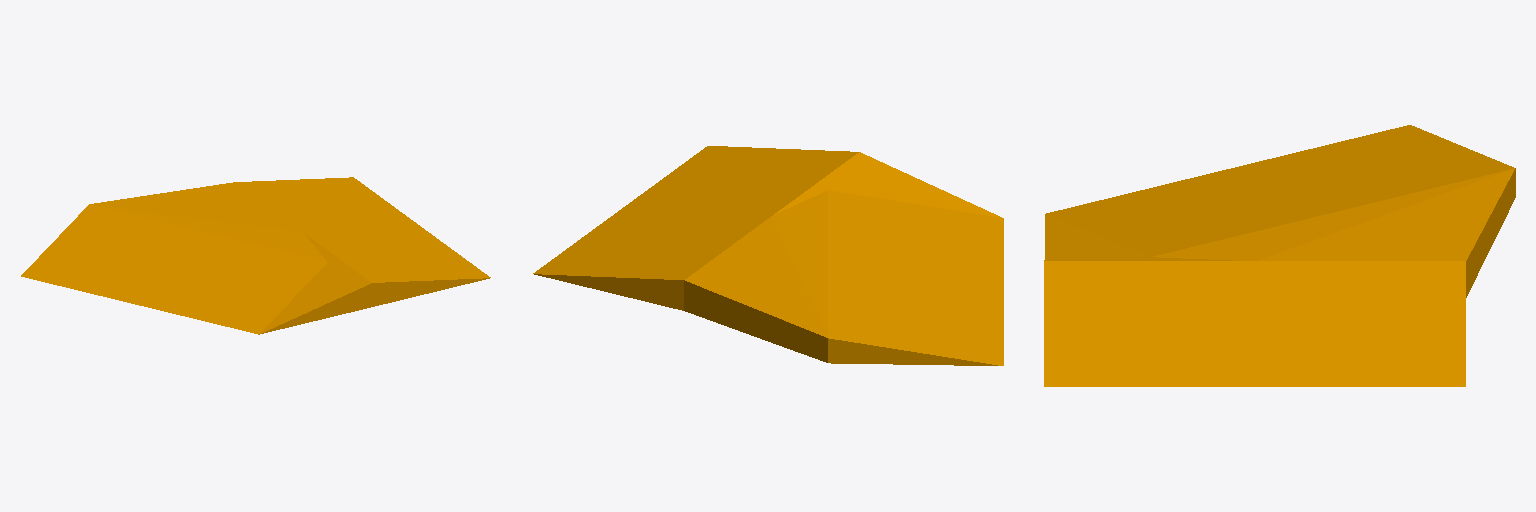
URDF robot description (block3_9_11):
<?xml version="1.0" ?>
<robot name="block3_9_11">
  <link name="block3_9_11__link_1">
    <inertial>
      <mass value="1"/>
      <origin rpy="0 0 0" xyz="0 0 0"/>
      <inertia ixx="0.166667" ixy="0" ixz="0" iyy="0.166667" iyz="0" izz="0.166667"/>
    </inertial>
    <collision name="block3_9_11__collision">
      <origin rpy="0 0 0" xyz="0 0 0"/>
      <geometry>
        <mesh filename="package://block3_9_11/block3_9_11.stl" scale="1 1 1"/>
      </geometry>
    </collision>
    <visual name="block3_9_11__visual">
      <origin rpy="0 0 0" xyz="0 0 0"/>
      <geometry>
        <mesh filename="package://block3_9_11/block3_9_11.stl" scale="1 1 1"/>
      </geometry>
    </visual>
  </link>
</robot>

--- Render facts (derived) ---
The picture shows the robot from 3 angles, left to right: view 1: azimuth 30°, elevation 25°; view 2: azimuth 150°, elevation 25°; view 3: azimuth 270°, elevation 25°; orthographic projection.
Robot: block3_9_11 — 1 links, 0 joints (none); root link block3_9_11__link_1; default pose: every joint at zero.
Visible links, largest first — view 1: block3_9_11__link_1; view 2: block3_9_11__link_1; view 3: block3_9_11__link_1.
Link boxes in pixels (left/top/right/bottom): block3_9_11__link_1: left=21, top=177, right=490, bottom=334; block3_9_11__link_1: left=533, top=146, right=1003, bottom=365; block3_9_11__link_1: left=1044, top=125, right=1515, bottom=386.
Size in the robot's own frame: 4.43 by 3.36 by 0.291 metres.
Meshes: 1 distinct files referenced, 1 mesh visuals loaded (1 binary STL).